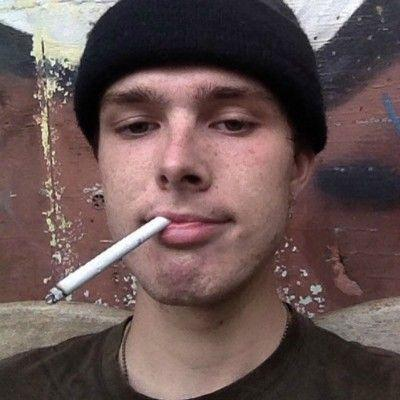cigarette: (44, 216, 172, 305)
